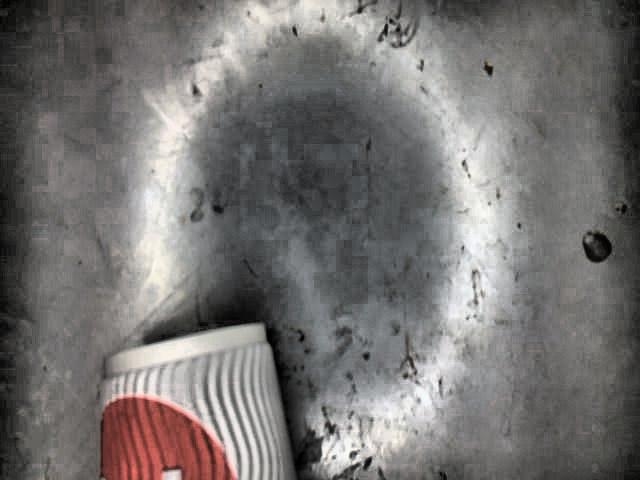Paper: (100, 323, 301, 478)
